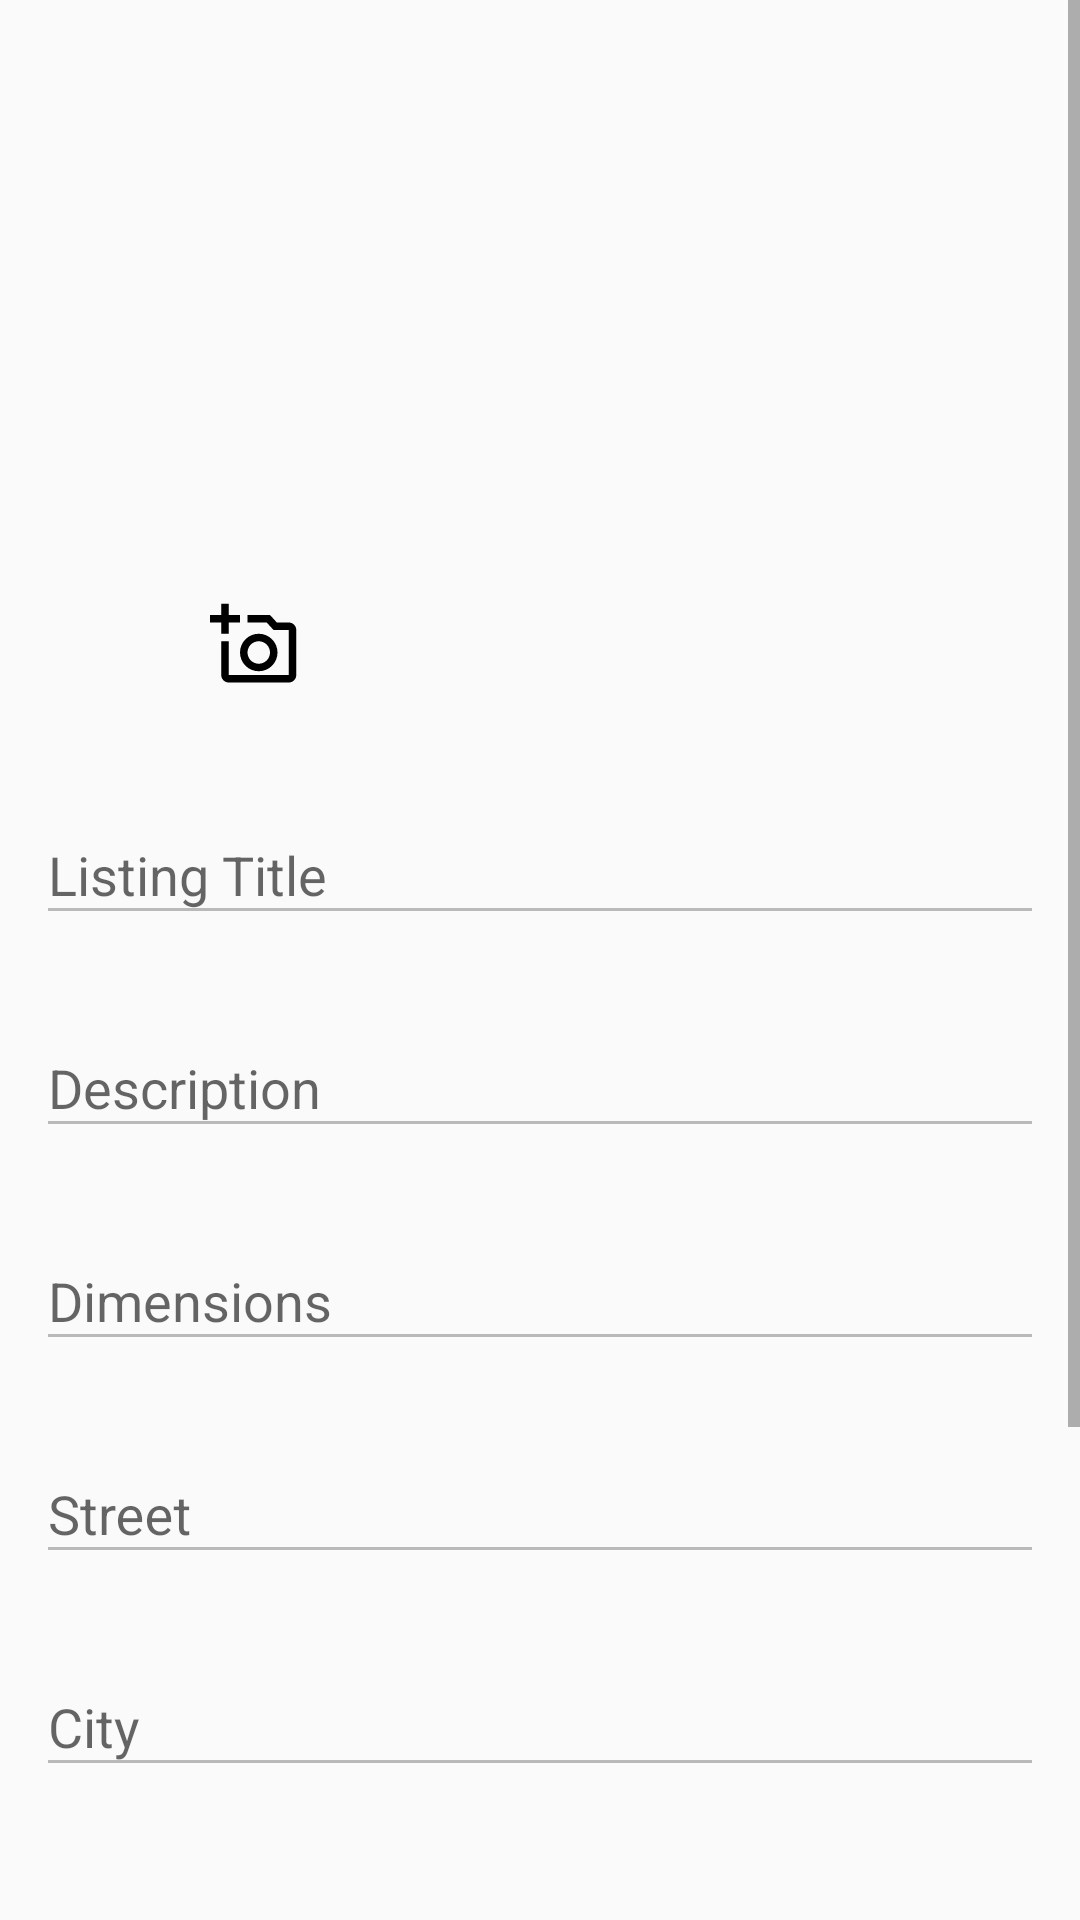

Named icons in this screenshot (1080px x 1920px) and their bounding boxes, (x1, y1, x2, y2):
add photo: (210, 603, 297, 683)
